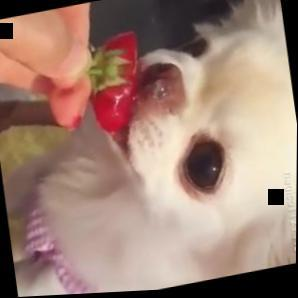nasal_discharge: (139, 71, 182, 110)
